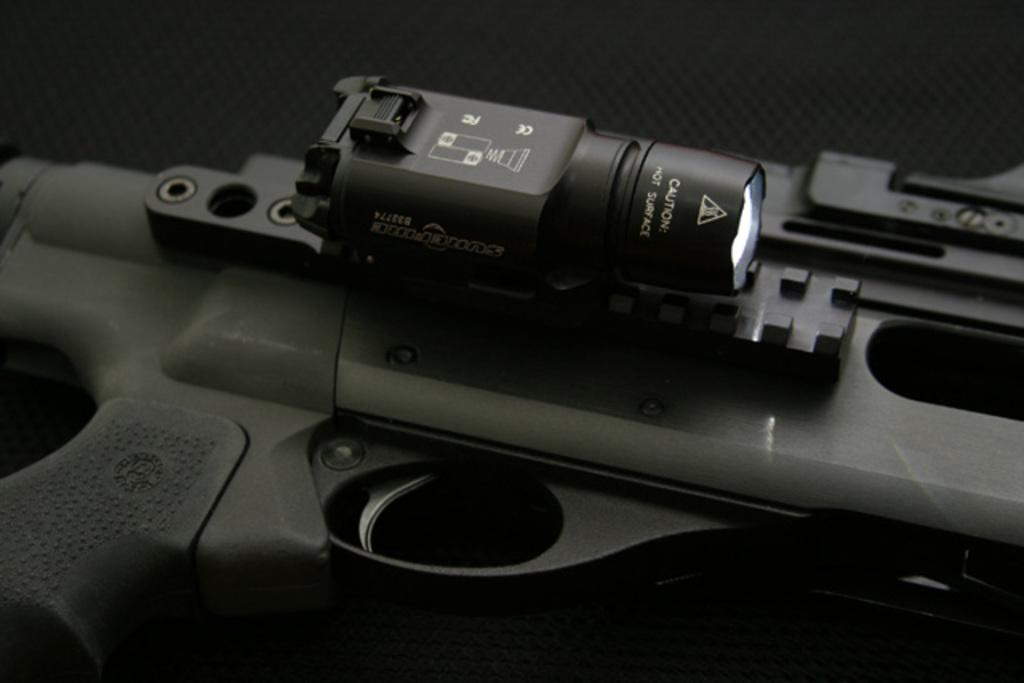Rifle: (0, 61, 973, 683)
